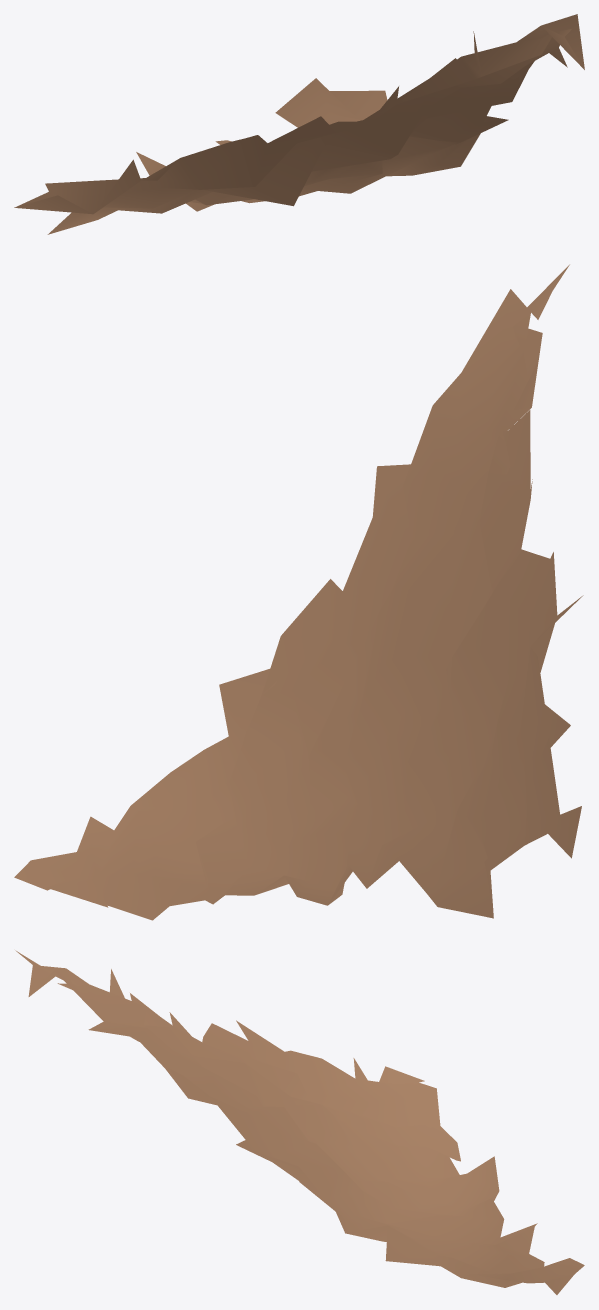
Rendered from pottery_fragment_078.obj.
The picture shows the model from 3 angles, top to bottom: view 1: azimuth 30°, elevation 25°; view 2: azimuth 150°, elevation 25°; view 3: azimuth 270°, elevation 25°; orthographic projection. The views are drawn at different scales.
Bounding box in the file's own units: 13.27 × 10.95 × 19.3.
